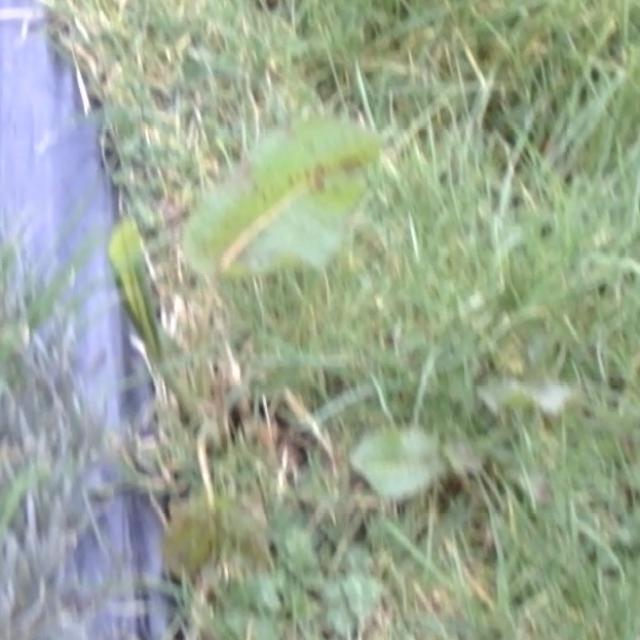organic waste: (74, 89, 491, 418), (255, 379, 505, 560)
